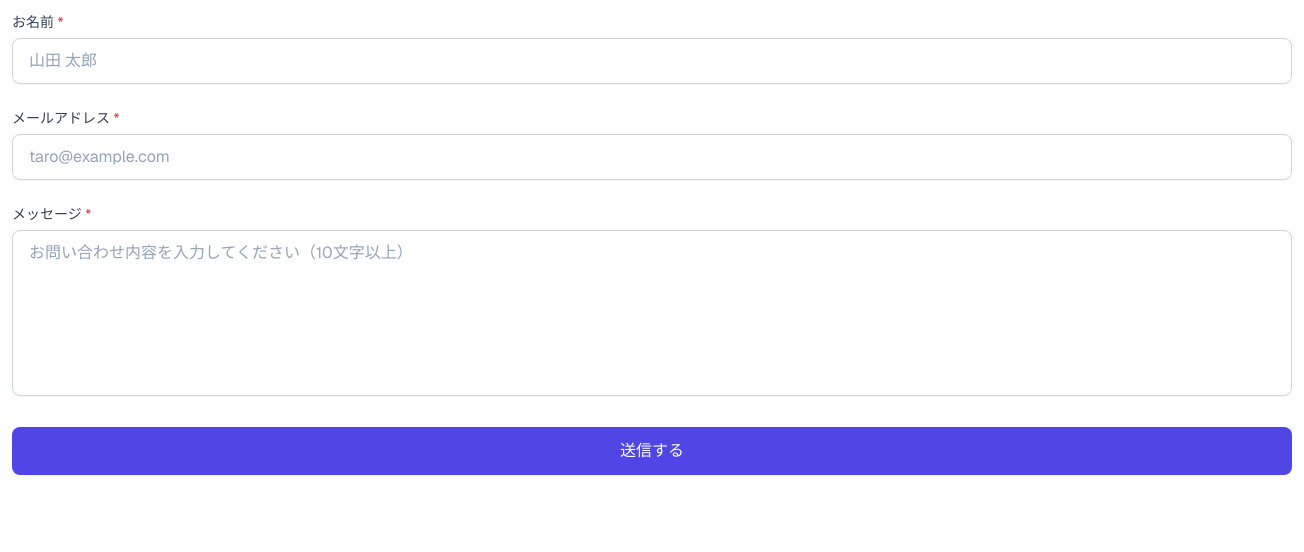
Test: ContactForm › 空のフォームを送信するとバリデーションエラーが表示される
Click the button "送信する". click: (652, 451)
box: left=12, top=427, right=1292, bottom=475
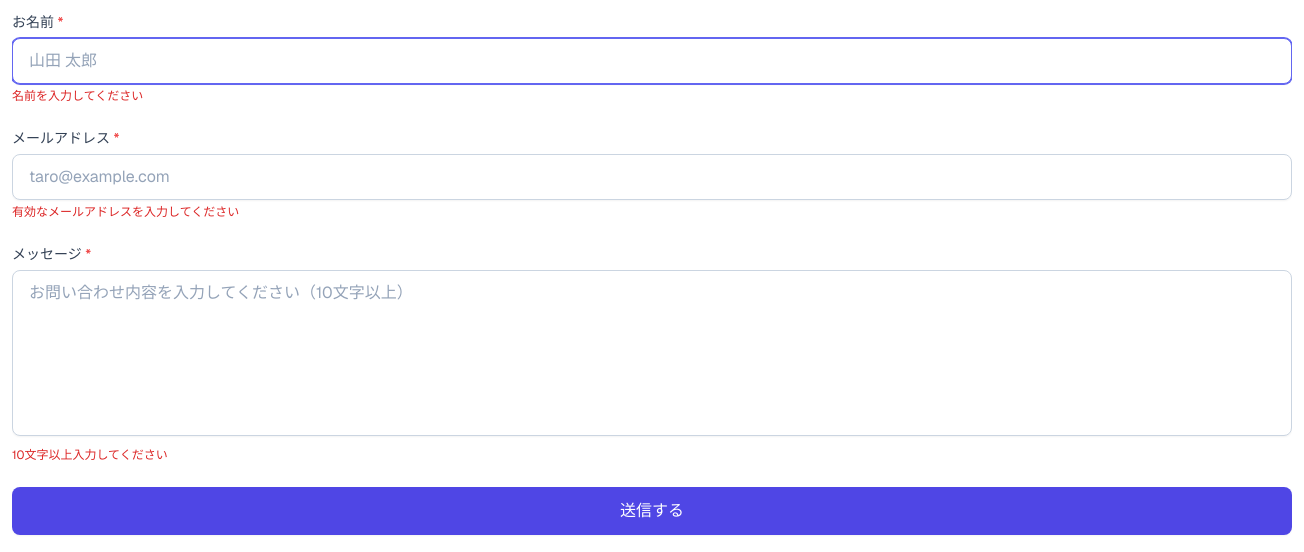
Expected: the text "名前を入力してください" is shown, left=12, top=88, right=143, bottom=104
Expected: the text "有効なメールアドレスを入力してください" is shown, left=12, top=204, right=239, bottom=220
Expected: the text "10文字以上入力してください" is shown, left=12, top=447, right=168, bottom=463
